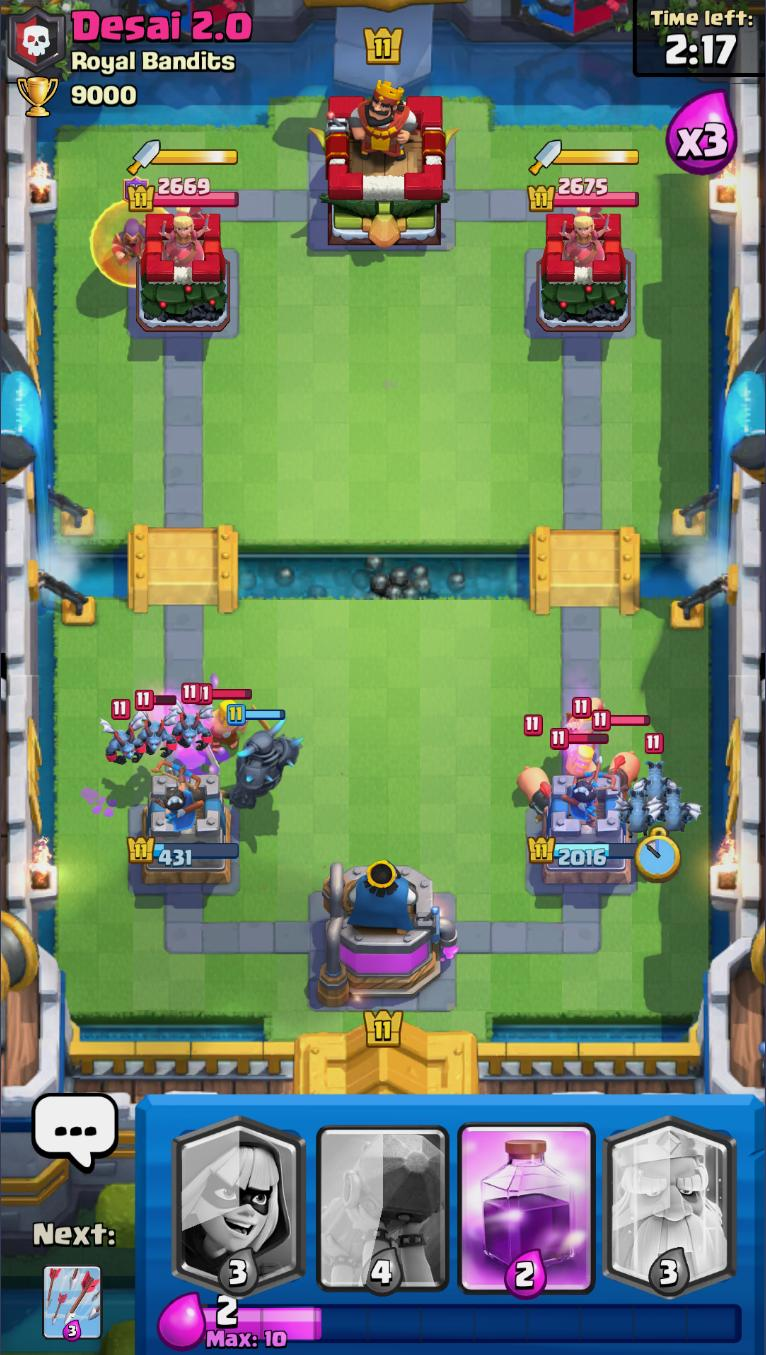ArrowNext: (41, 1264, 103, 1343)
BanditDeck: (166, 1096, 311, 1294)
Barbarian: (189, 681, 254, 751), (549, 727, 613, 776), (560, 694, 607, 737)
BattleRamDeck: (313, 1099, 451, 1297)
DaggerDuchess: (157, 206, 210, 266), (557, 206, 611, 264)
Daggers: (126, 140, 240, 176), (531, 139, 640, 173)
Elixir: (203, 1294, 744, 1351)
EnemyTower: (136, 214, 234, 334), (539, 211, 633, 333)
EvoWizard: (89, 177, 150, 291)
KingTower: (320, 74, 451, 251)
Minion: (130, 689, 174, 760), (171, 681, 211, 753), (104, 699, 144, 766)
MyKingTower: (314, 859, 460, 1011)
MyMinion: (630, 731, 679, 800), (647, 781, 700, 834), (616, 787, 659, 837)
MyPekka: (211, 704, 313, 791)
MyPrincessTower: (124, 770, 240, 893), (527, 771, 641, 889)
MyPrincessTowerHP: (126, 837, 240, 866), (526, 837, 640, 866)
RageDeck: (454, 1096, 600, 1296)
RoyaleGhostDeck: (597, 1094, 741, 1299)
RoyalePig: (591, 707, 651, 774), (516, 713, 557, 810)
TowerPrincessHP: (127, 174, 240, 210), (530, 176, 641, 210)
